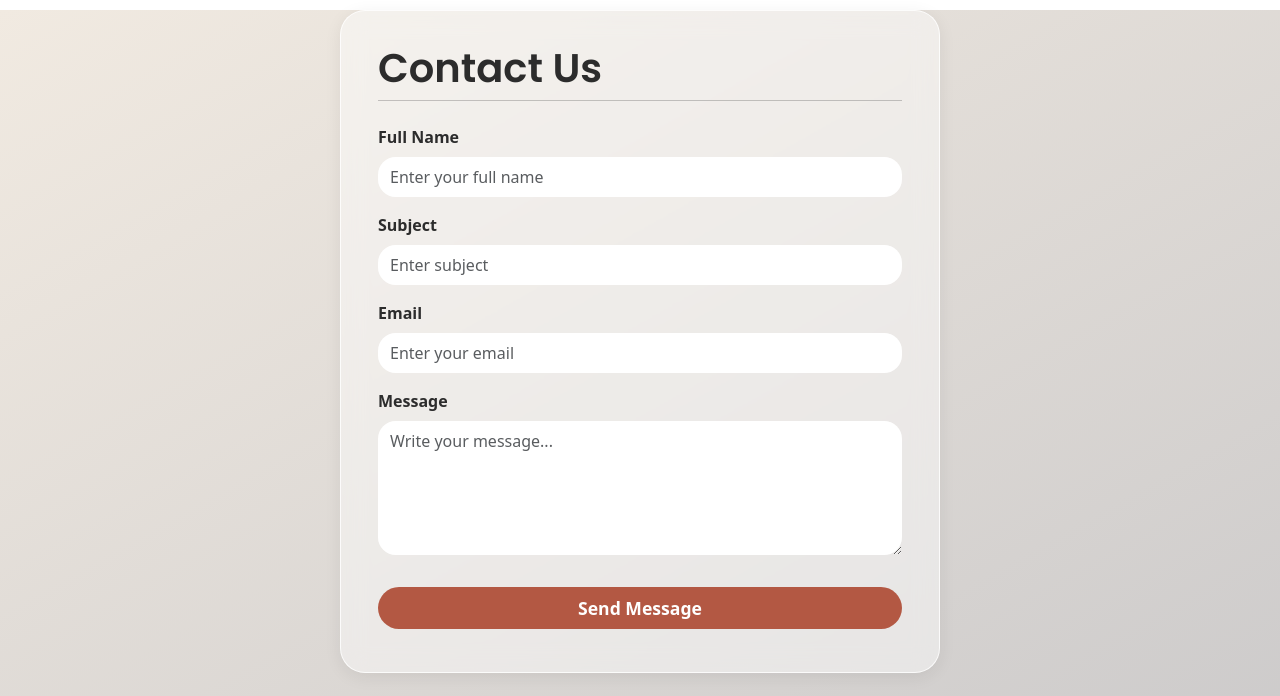
Test: Contact Form › shows validation errors when submitting empty form
Click the button "Send Message" at (640, 608), box [378,587,902,629]
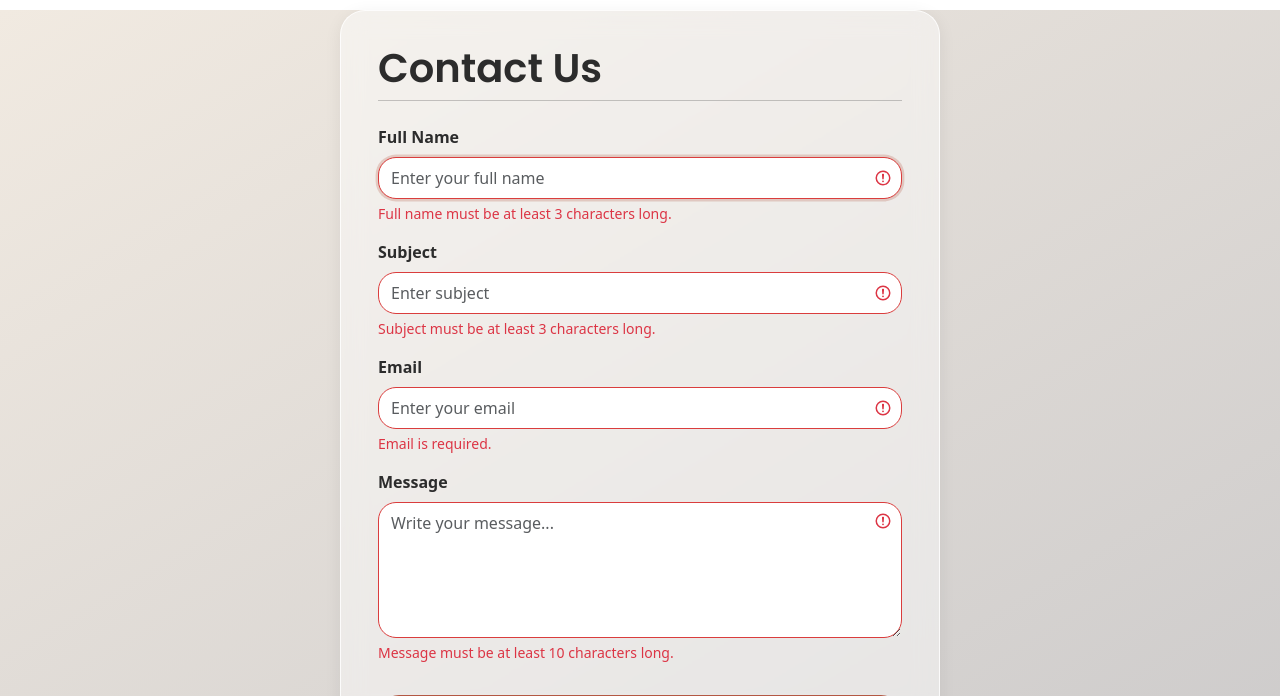
Expected: the text "Full name must be at least 3 characters long." is shown, [378,204,672,223]
Expected: the text "Subject must be at least 3 characters long." is shown, [378,319,656,338]
Expected: the text "Email is required." is shown, [378,434,492,453]
